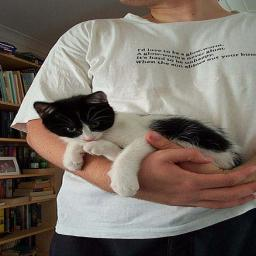catnose: (83, 137, 96, 142)
